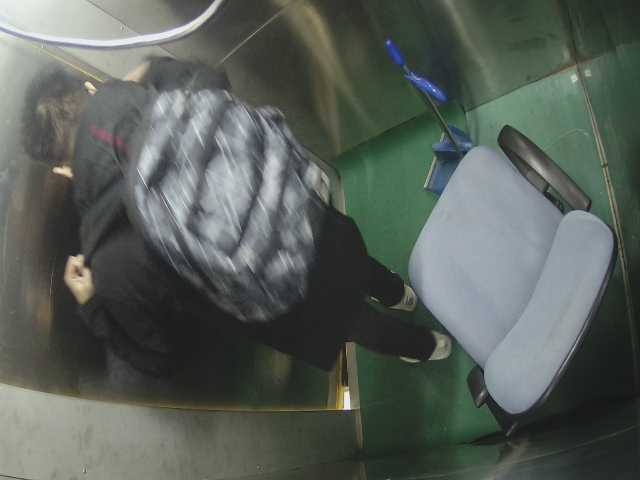bag: (134, 80, 326, 322)
broom: (371, 33, 482, 190)
chair: (402, 122, 614, 437)
person: (14, 62, 441, 376)
